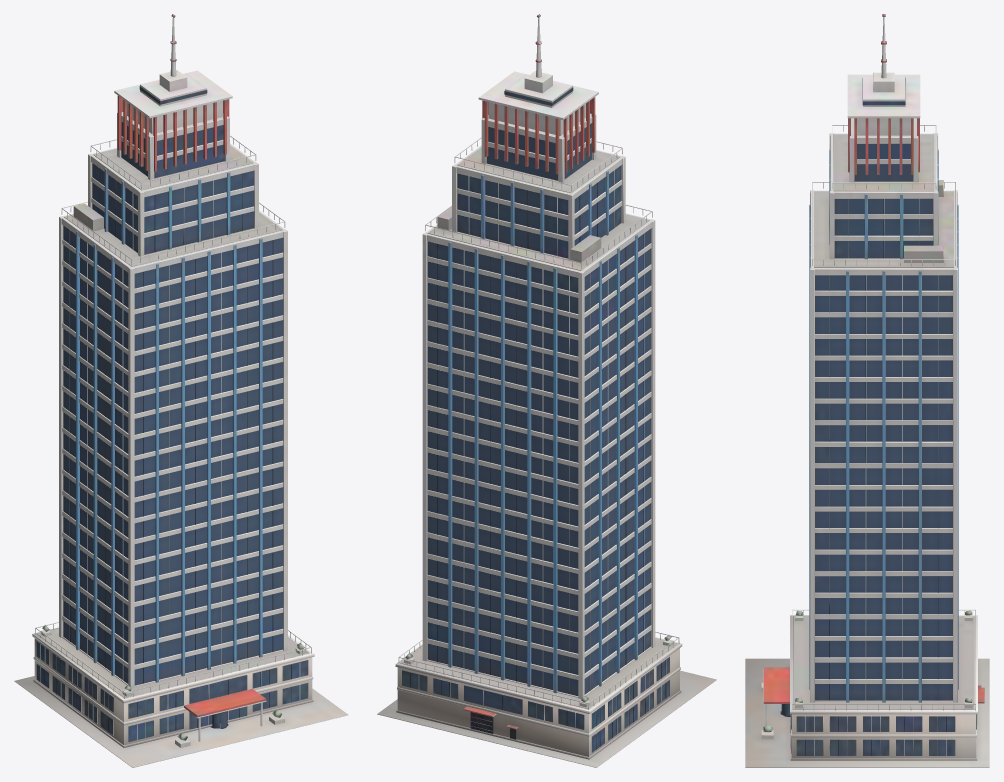
Rendered from skyscraper.glb.
3 views of the same model, side by side, from view 1: azimuth 30°, elevation 25°; view 2: azimuth 150°, elevation 25°; view 3: azimuth 270°, elevation 25° (orthographic). The views are drawn at different scales.
Visible parts, largest first — view 1: skyscraper_body; view 2: skyscraper_body; view 3: skyscraper_body.
Part boxes in pixels (bbox=[...]): skyscraper_body: bbox=[14, 14, 348, 767]; skyscraper_body: bbox=[377, 14, 716, 767]; skyscraper_body: bbox=[745, 14, 989, 767].
Size of the model in its own units: 38.99 by 117 by 36.97.
Materials: 1 (1 with a texture image).
